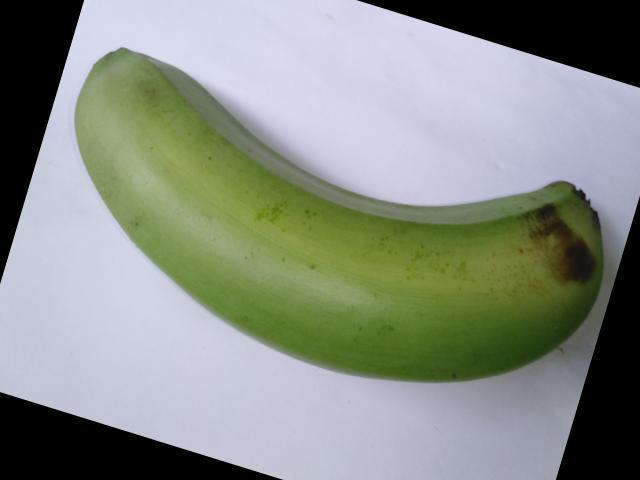freshunripe: (53, 23, 615, 407)
